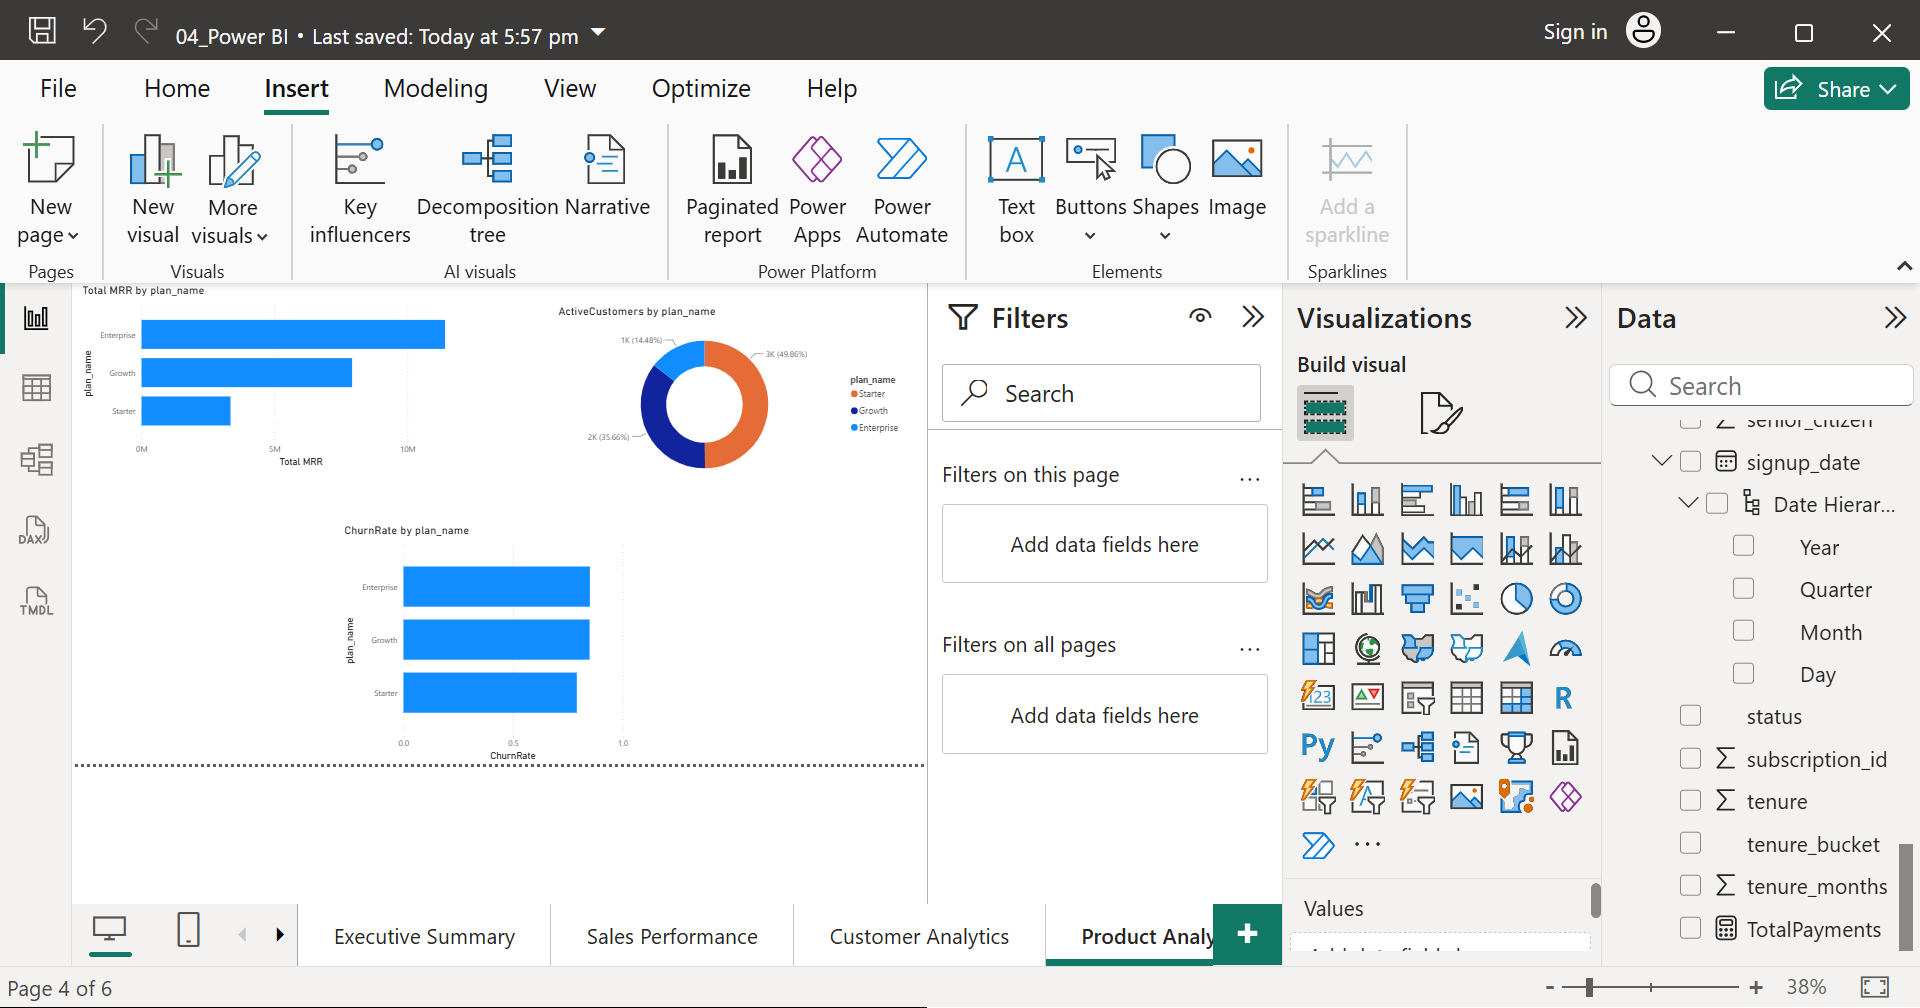

Layout of this report page (visuals, bound fields, positions):
{"tool":"powerbi","page":{"name":"Product Analytics:","canvas":[1280,720],"ordinal":3},"visuals":[{"type":"clusteredBarChart","fields":{"Category":["dim_plans.plan_name"],"Y":["dim_date.Total MRR"]},"box":[10.6,0,588.3,280.9],"z":0},{"type":"donutChart","fields":{"Category":["dim_plans.plan_name"],"Y":["master_dataset.ActiveCustomers"]},"box":[723.4,31.8,532.6,280.9],"z":1},{"type":"clusteredBarChart","fields":{"Category":["dim_plans.plan_name"],"Y":["master_dataset. ChurnRate"]},"box":[402.8,360.4,434.6,360.4],"z":2}]}

Visuals, with their boxes on the page's 1280x720 design canvas (x1, y1, x2, y2). These are canvas units, not pixel positions in the 1920x1008 screenshot, which may show the page scaled, cropped or inside an application window:
clusteredBarChart - dim_plans.plan_name x dim_date.Total MRR: {"x1": 11, "y1": 0, "x2": 599, "y2": 281}
donutChart - dim_plans.plan_name x master_dataset.ActiveCustomers: {"x1": 723, "y1": 32, "x2": 1256, "y2": 313}
clusteredBarChart - dim_plans.plan_name x master_dataset. ChurnRate: {"x1": 403, "y1": 360, "x2": 837, "y2": 721}
